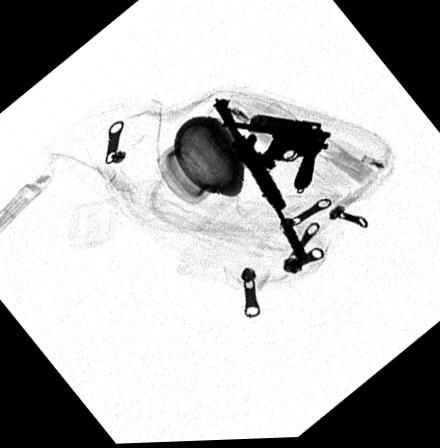Gun: (210, 98, 309, 264), (219, 111, 331, 192)
